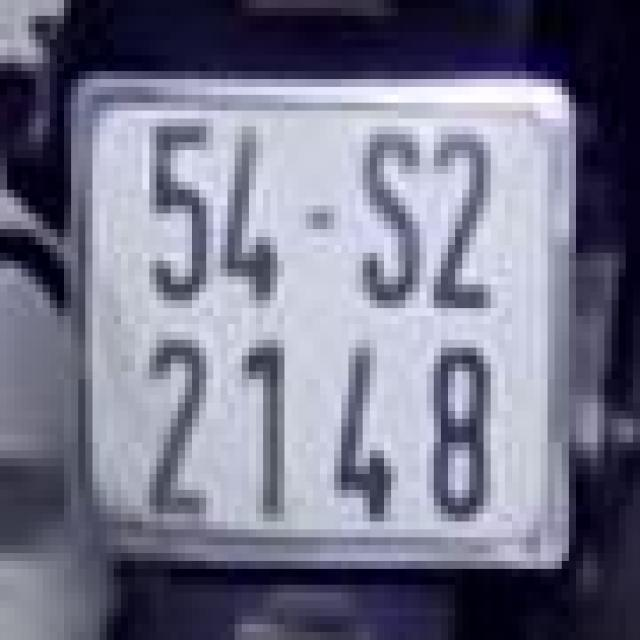1: (235, 332, 313, 521)
2: (128, 320, 213, 533), (427, 115, 505, 320)
4: (217, 119, 295, 308), (327, 324, 398, 529)
5: (131, 115, 217, 312)
8: (423, 332, 501, 529)
S: (348, 103, 426, 308)
